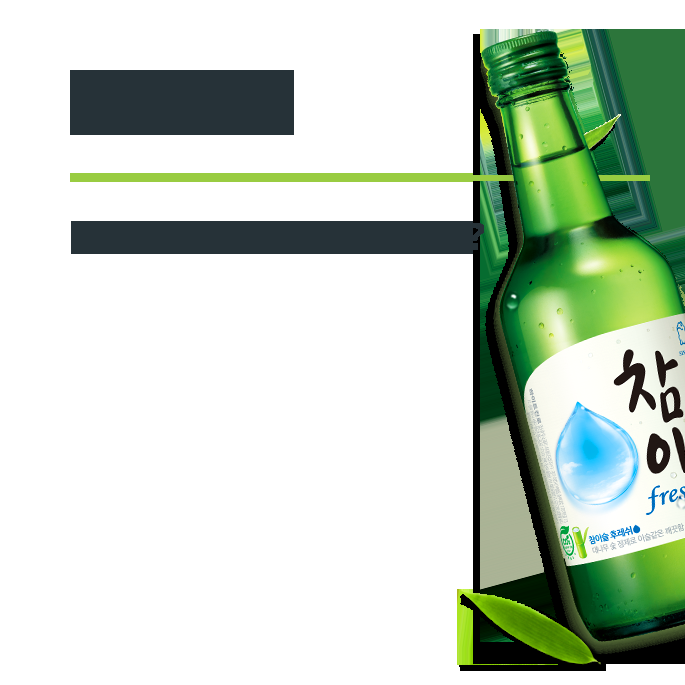soju: (480, 26, 685, 642)
